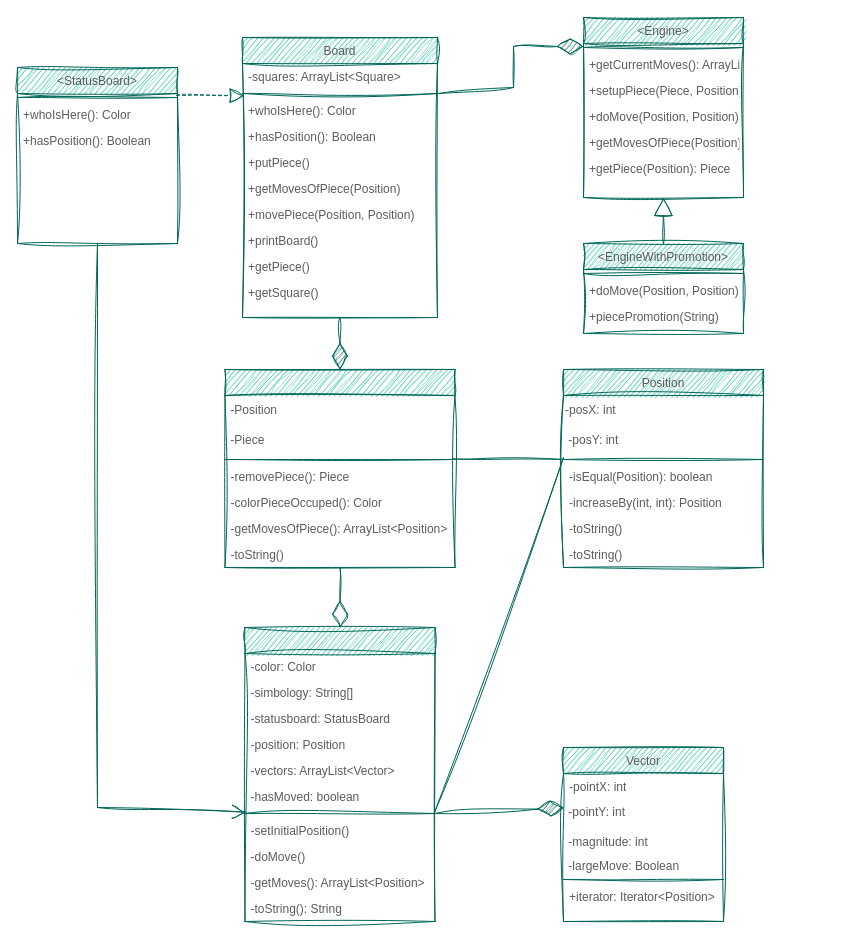
The diagram is 868 pixels wide and 942 high, and some of its shapes have lost their labels. The shapes that lost their labels are listed below. From the top down, each one's box as (x1, y1, x2, y2) in pixels, then its label:
(224, 368, 455, 568): Square
(244, 626, 435, 922): Piece
